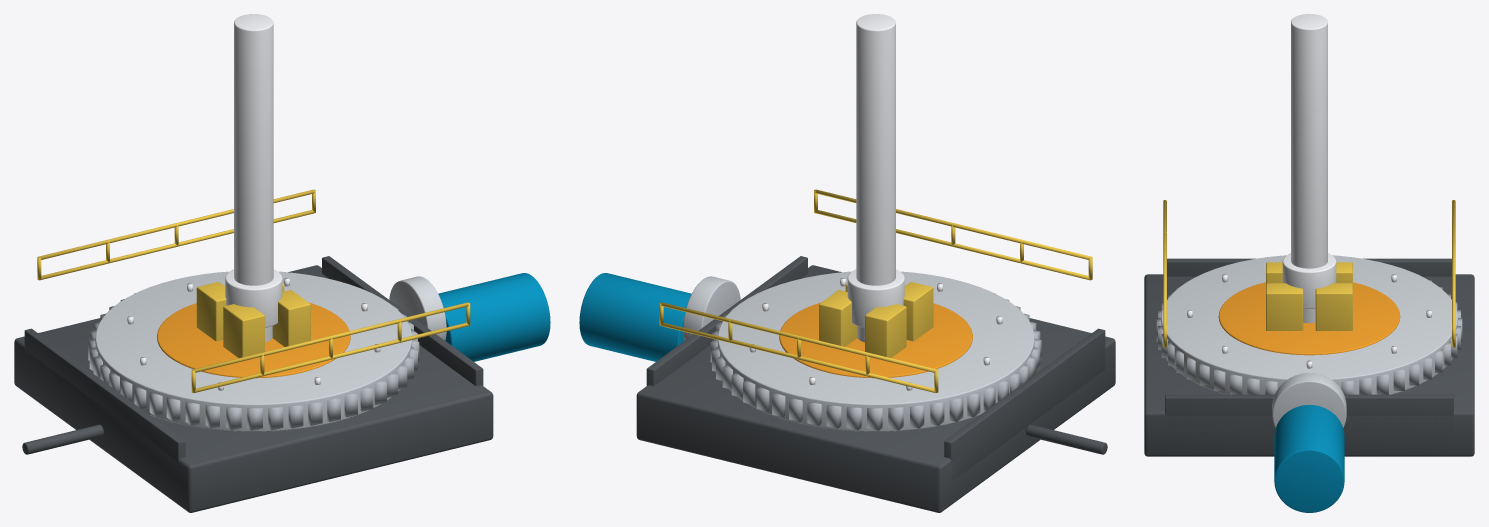
The model's file is mesa_rotativa.glb.
The picture shows the model from 3 angles, left to right: view 1: azimuth 30°, elevation 25°; view 2: azimuth 150°, elevation 25°; view 3: azimuth 270°, elevation 25°; orthographic projection. The views are drawn at different scales.
Visible parts, largest first — view 1: mesa_rotativa_aco_escuro, mesa_rotativa_aco, mesa_rotativa_cromo, mesa_rotativa_HMH_amarelo, mesa_rotativa_azul_hmh, mesa_rotativa_cinza, mesa_rotativa_laranja; view 2: mesa_rotativa_aco_escuro, mesa_rotativa_aco, mesa_rotativa_cromo, mesa_rotativa_HMH_amarelo, mesa_rotativa_azul_hmh, mesa_rotativa_cinza, mesa_rotativa_laranja; view 3: mesa_rotativa_aco_escuro, mesa_rotativa_aco, mesa_rotativa_cromo, mesa_rotativa_laranja, mesa_rotativa_azul_hmh, mesa_rotativa_HMH_amarelo, mesa_rotativa_cinza.
Part boxes in pixels (x1=…): mesa_rotativa_aco_escuro: x1=14, y1=256, x2=493, y2=512; mesa_rotativa_aco: x1=95, y1=271, x2=446, y2=431; mesa_rotativa_cromo: x1=127, y1=14, x2=380, y2=390; mesa_rotativa_HMH_amarelo: x1=37, y1=189, x2=470, y2=392; mesa_rotativa_azul_hmh: x1=438, y1=273, x2=550, y2=361; mesa_rotativa_cinza: x1=88, y1=293, x2=419, y2=430; mesa_rotativa_laranja: x1=157, y1=302, x2=350, y2=378; mesa_rotativa_aco_escuro: x1=636, y1=256, x2=1115, y2=512; mesa_rotativa_aco: x1=683, y1=271, x2=1034, y2=431; mesa_rotativa_cromo: x1=749, y1=14, x2=1002, y2=390; mesa_rotativa_HMH_amarelo: x1=659, y1=189, x2=1092, y2=392; mesa_rotativa_azul_hmh: x1=579, y1=273, x2=691, y2=361; mesa_rotativa_cinza: x1=710, y1=293, x2=1041, y2=430; mesa_rotativa_laranja: x1=779, y1=302, x2=972, y2=378; mesa_rotativa_aco_escuro: x1=1144, y1=258, x2=1474, y2=456; mesa_rotativa_aco: x1=1161, y1=255, x2=1457, y2=427; mesa_rotativa_cromo: x1=1187, y1=14, x2=1431, y2=368; mesa_rotativa_laranja: x1=1218, y1=282, x2=1400, y2=355; mesa_rotativa_azul_hmh: x1=1274, y1=405, x2=1344, y2=512; mesa_rotativa_HMH_amarelo: x1=1163, y1=200, x2=1455, y2=347; mesa_rotativa_cinza: x1=1156, y1=274, x2=1462, y2=394.
Size of the model in its own units: 13.3 by 9.8 by 8.
